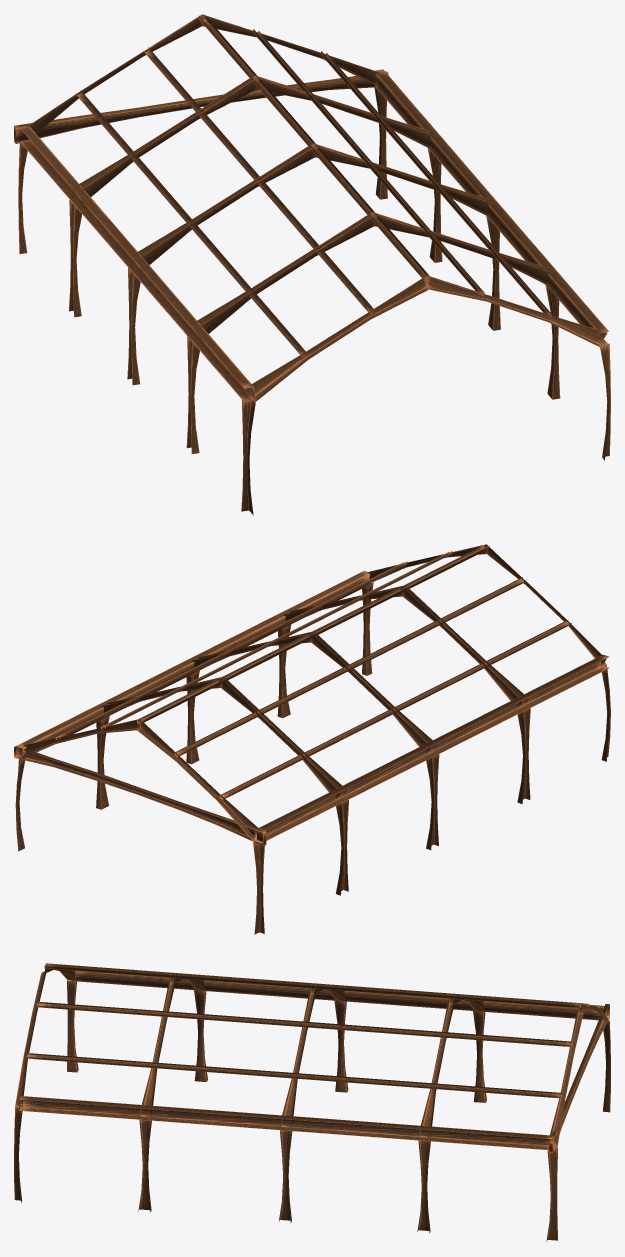
Rendered from HTOWN01_CHICKENCOOPINTRAFTERS.fbx.
3 views of the same model, one above another, from view 1: azimuth 30°, elevation 25°; view 2: azimuth 150°, elevation 25°; view 3: azimuth 270°, elevation 25° (orthographic). The views are drawn at different scales.
Parts seen in each view (by area): view 1: HTOWN01_CHICKENCOOPINTRAFTERS; view 2: HTOWN01_CHICKENCOOPINTRAFTERS; view 3: HTOWN01_CHICKENCOOPINTRAFTERS.
Boxes of the visible parts, x1=… form: HTOWN01_CHICKENCOOPINTRAFTERS: x1=14, y1=14, x2=610, y2=515; HTOWN01_CHICKENCOOPINTRAFTERS: x1=14, y1=544, x2=610, y2=934; HTOWN01_CHICKENCOOPINTRAFTERS: x1=14, y1=963, x2=610, y2=1241.
Size of the model in its own units: 76871 by 35518 by 111103.
1 material, 1 textured.
